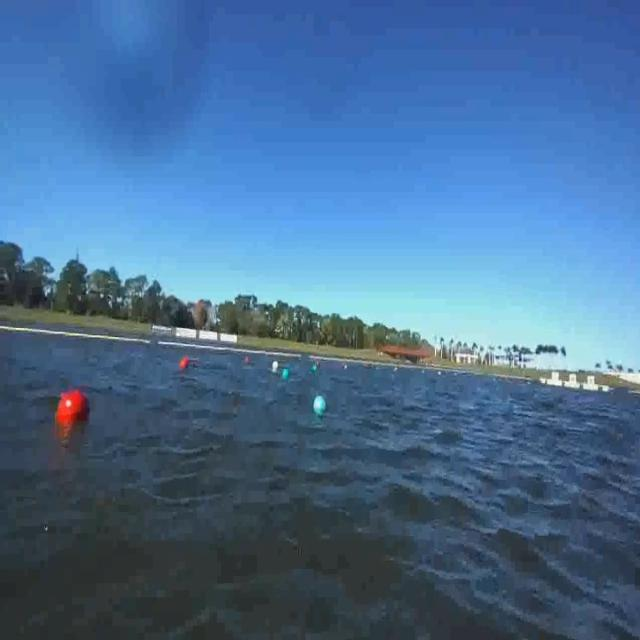green-buoy: (313, 395, 327, 417), (282, 367, 290, 379)
red-buoy: (56, 389, 94, 432)
red-column-buoy: (181, 356, 193, 370)
